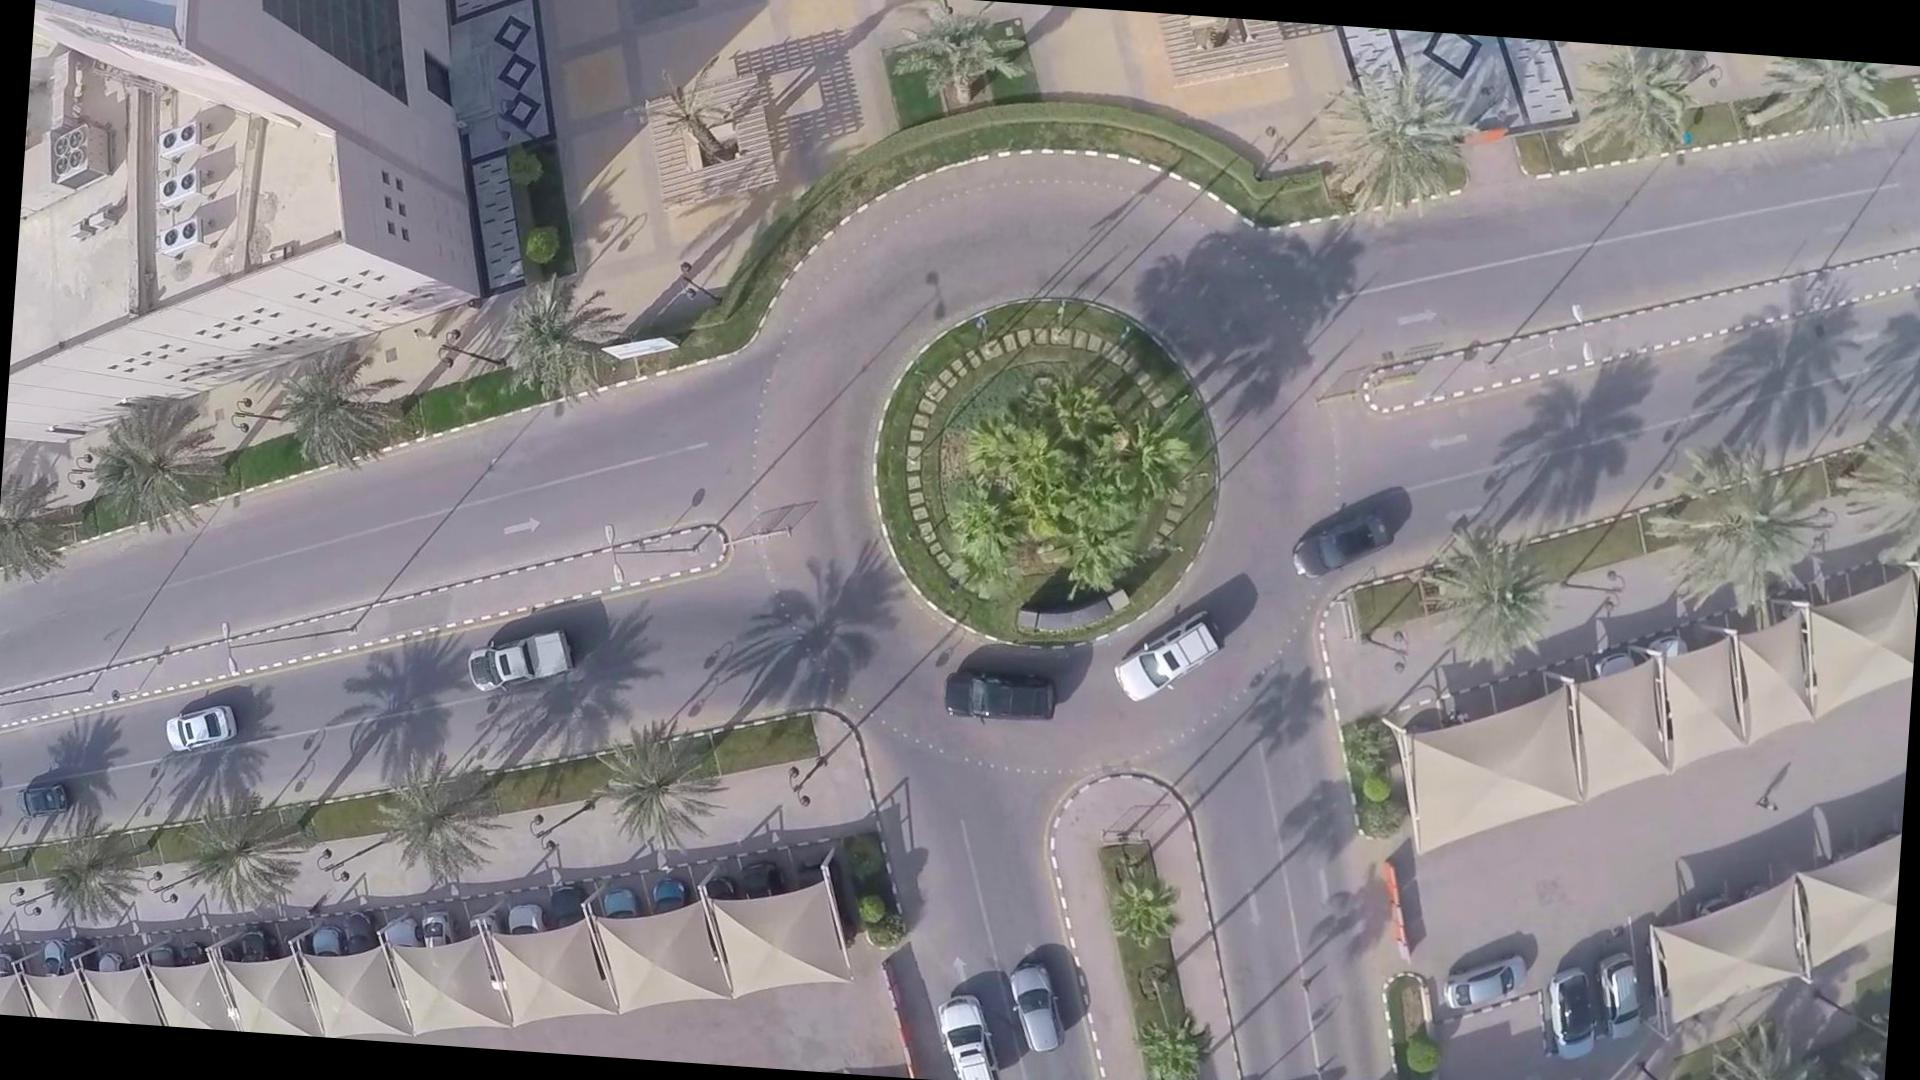vehicle: (1116, 603, 1220, 723), (454, 618, 579, 712), (935, 661, 1077, 740), (997, 944, 1081, 1071), (1294, 506, 1408, 593)
